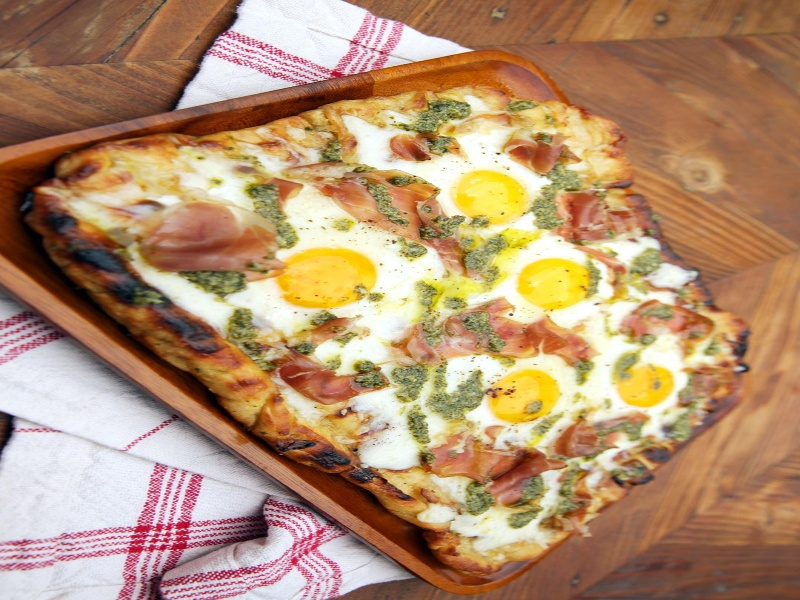oeuf: (275, 245, 391, 315), (511, 246, 607, 320), (442, 160, 537, 234), (484, 365, 568, 432), (612, 356, 676, 416)
